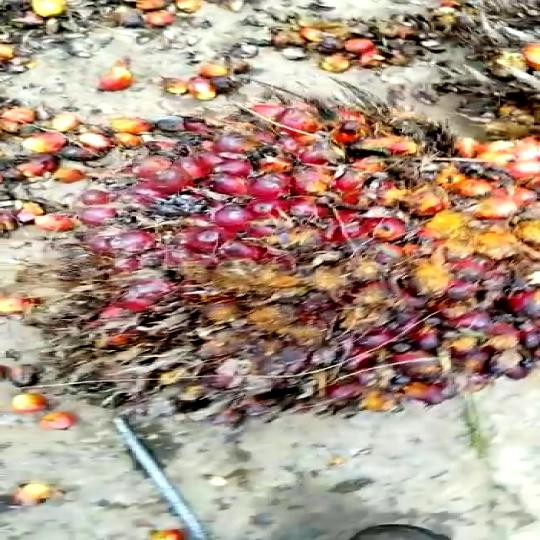masak: (11, 99, 538, 404)
